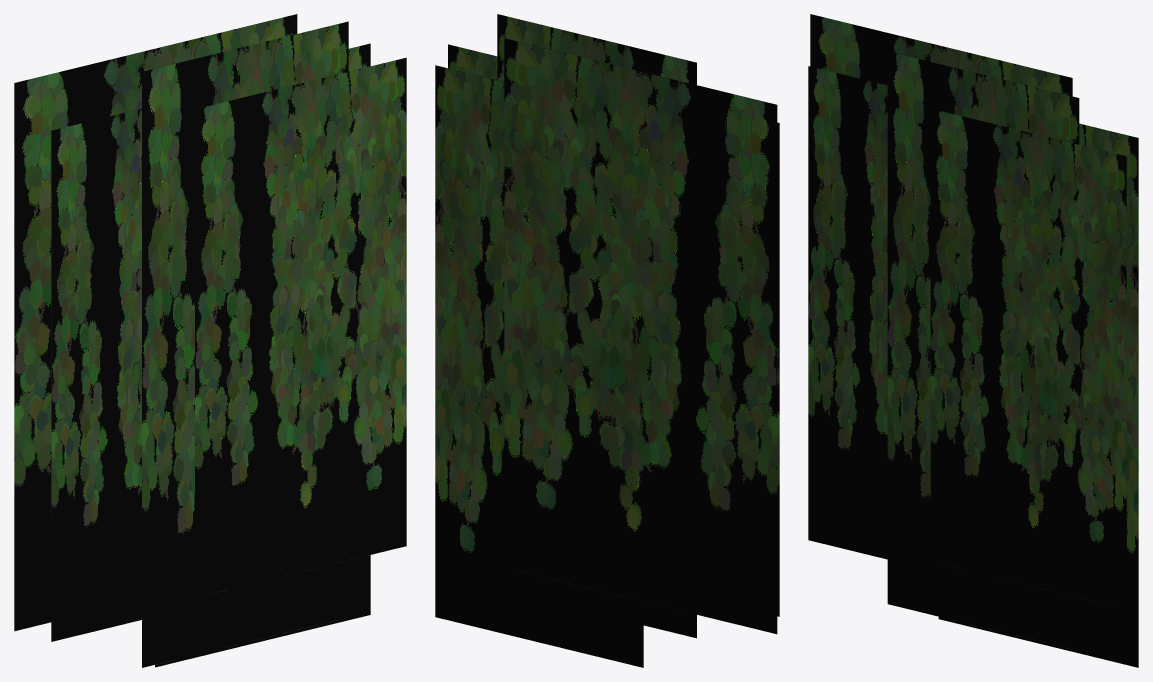
The model's file is Prop_Vine4_LOD1.gltf.
3 views of the same model, side by side, from view 1: azimuth 30°, elevation 25°; view 2: azimuth 150°, elevation 25°; view 3: azimuth 330°, elevation 25° (orthographic). The views are drawn at different scales.
Visible parts, largest first — view 1: Prop_Vine4_LOD1; view 2: Prop_Vine4_LOD1; view 3: Prop_Vine4_LOD1.
Boxes of the visible parts, x1,y1,x2,y2 form: Prop_Vine4_LOD1: (14, 14, 406, 667); Prop_Vine4_LOD1: (435, 14, 779, 667); Prop_Vine4_LOD1: (808, 14, 1138, 667).
Size of the model in its own units: 0.9785 by 1.58 by 0.1177.
1 material, 1 textured.
